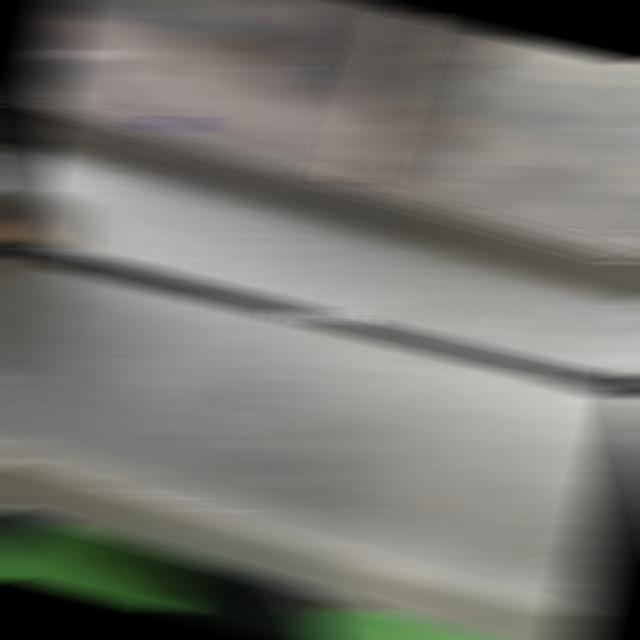white: (288, 308, 356, 329)
